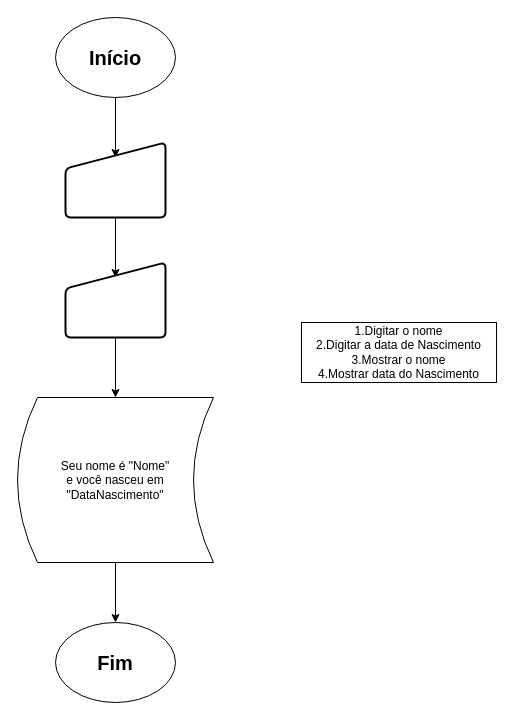
This 514x720 diagram has some shape labels left out. The shapes that lost their labels are listed below. From the top down, each one's box as (x1, y1, x2, y2) in pixels, then its label:
(64, 141, 166, 218): var Nome
(64, 261, 166, 338): var DataNascimento
